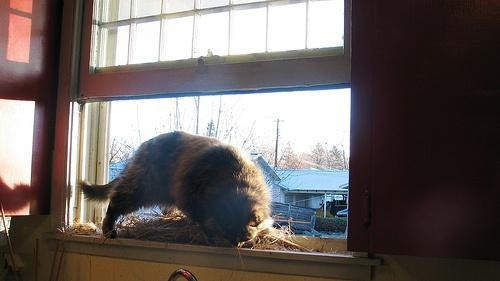cat: (79, 130, 274, 249)
